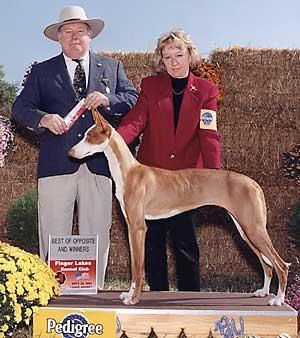Ibizan_hound: (66, 111, 292, 307)
